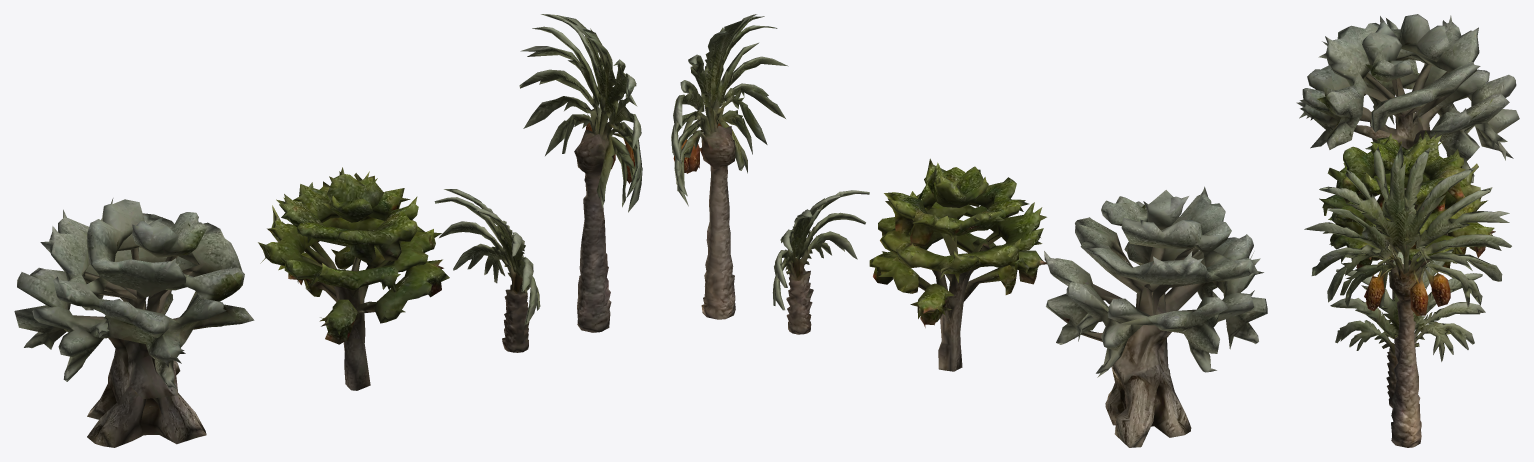
The model's file is trees_orchard.glb.
The picture shows the model from 3 angles, left to right: view 1: azimuth 30°, elevation 25°; view 2: azimuth 150°, elevation 25°; view 3: azimuth 270°, elevation 25°; orthographic projection. The views are drawn at different scales.
Visible parts, largest first — view 1: olive, pomegranate, date_palm, date_palm_young; view 2: olive, pomegranate, date_palm, date_palm_young; view 3: olive, date_palm, pomegranate, date_palm_young.
Boxes of the visible parts, x1,y1,x2,y2 form: olive: (14,198,254,447); pomegranate: (258,167,449,390); date_palm: (519,14,642,332); date_palm_young: (434,189,540,352); olive: (1044,186,1267,447); pomegranate: (869,158,1046,371); date_palm: (671,14,788,319); date_palm_young: (772,190,869,334); olive: (1296,14,1519,259); date_palm: (1304,144,1511,447); pomegranate: (1319,130,1495,337); date_palm_young: (1330,248,1485,407).
Size of the model in its own units: 0.798 by 0.4015 by 0.2838.
1 material, 1 textured.
